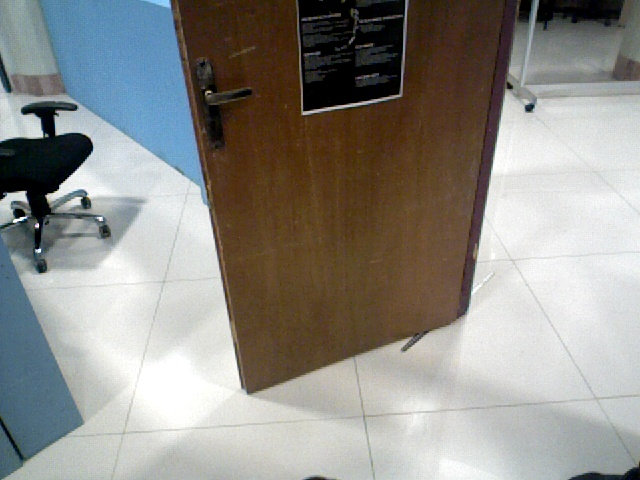door_handle: (190, 52, 254, 152)
